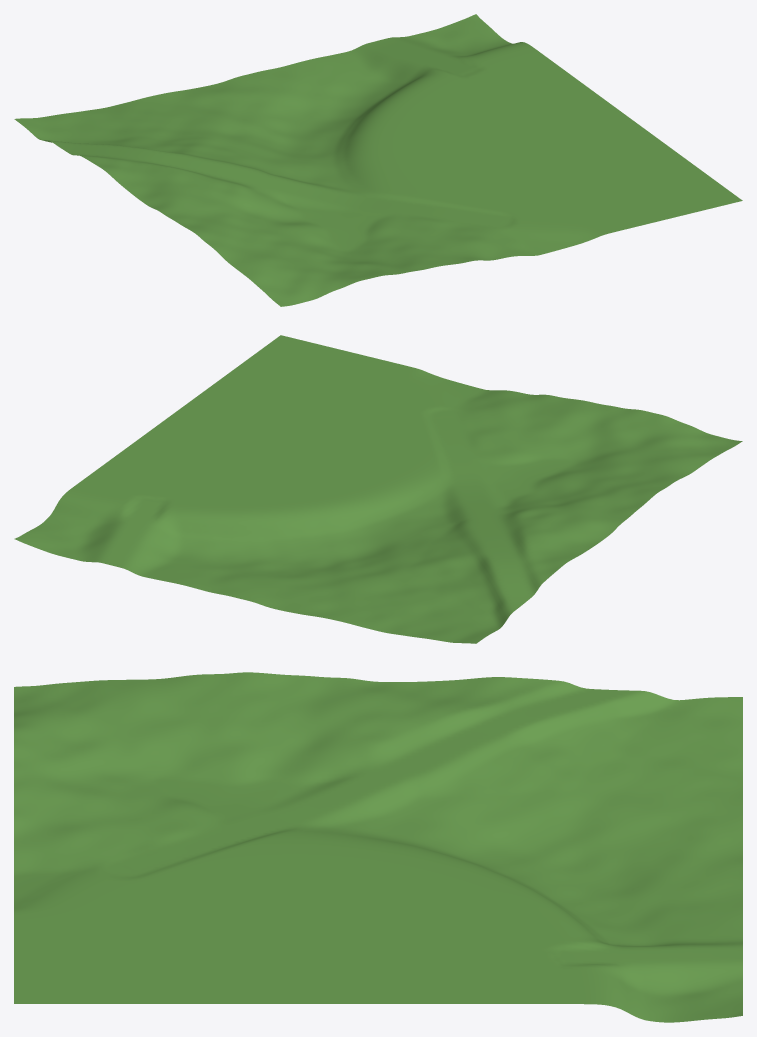
Rendered from SM_Terrain_03_03.fbx.
3 views of the same model, one above another, from view 1: azimuth 30°, elevation 25°; view 2: azimuth 150°, elevation 25°; view 3: azimuth 270°, elevation 25° (orthographic). The views are drawn at different scales.
Visible parts, largest first — view 1: SM_Terrain_03_03; view 2: SM_Terrain_03_03; view 3: SM_Terrain_03_03.
Part boxes in pixels (box(x1,y1,x2,y2)): SM_Terrain_03_03: box(14, 14, 742, 306); SM_Terrain_03_03: box(14, 335, 742, 643); SM_Terrain_03_03: box(14, 672, 742, 1022).
Bounding box in the file's own units: 384 × 30.62 × 384.
